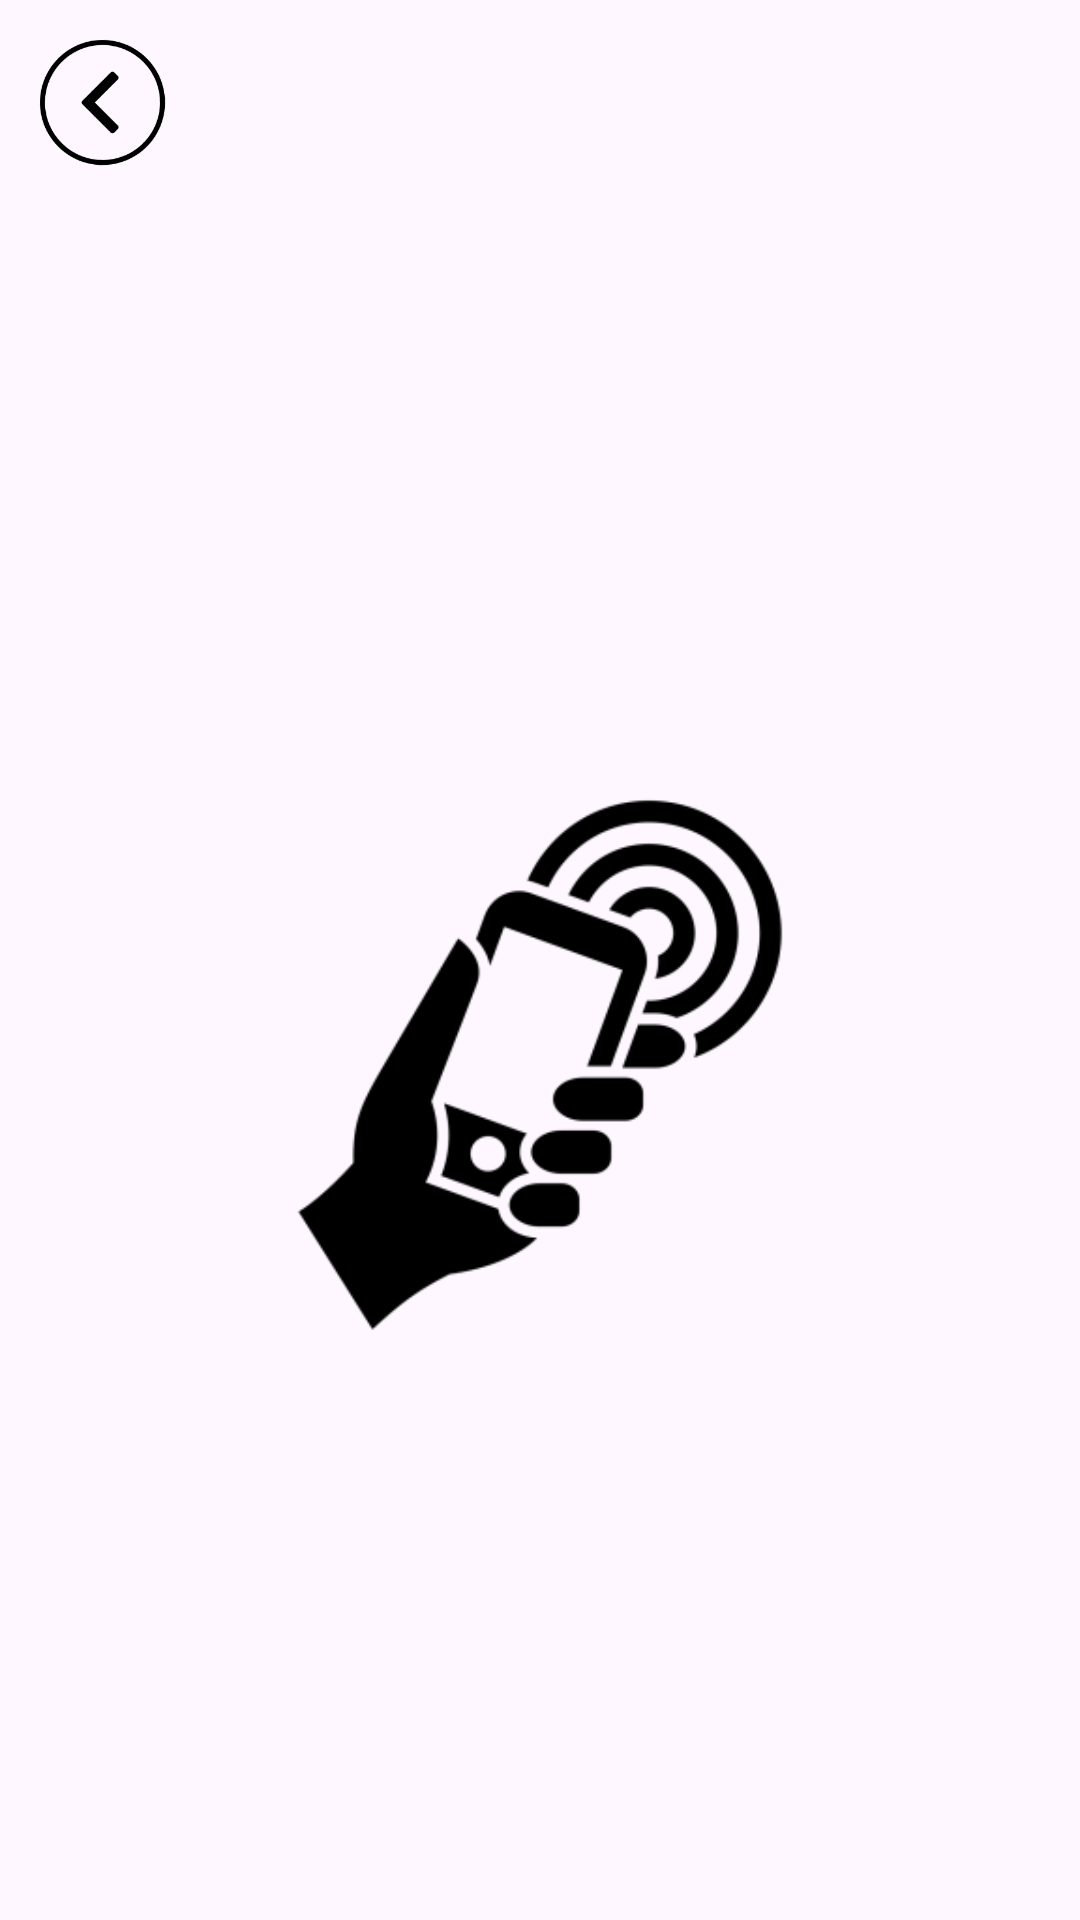

Icons on this 1080w x 1920h Android screen, each with its box as (x1, y1, x2, y2):
back arrow: (40, 40, 166, 166)
